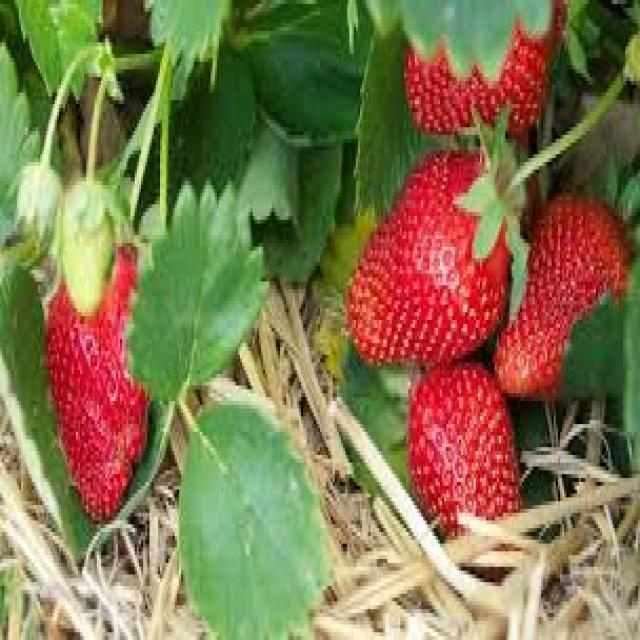Fruta sana: (349, 140, 513, 363), (498, 150, 634, 397), (52, 261, 148, 505), (393, 0, 558, 140), (404, 359, 514, 545)
